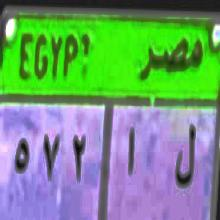2: (71, 134, 87, 193)
5: (12, 132, 32, 185)
7: (42, 128, 62, 190)
alif: (124, 121, 138, 189)
laam: (176, 118, 196, 200)
